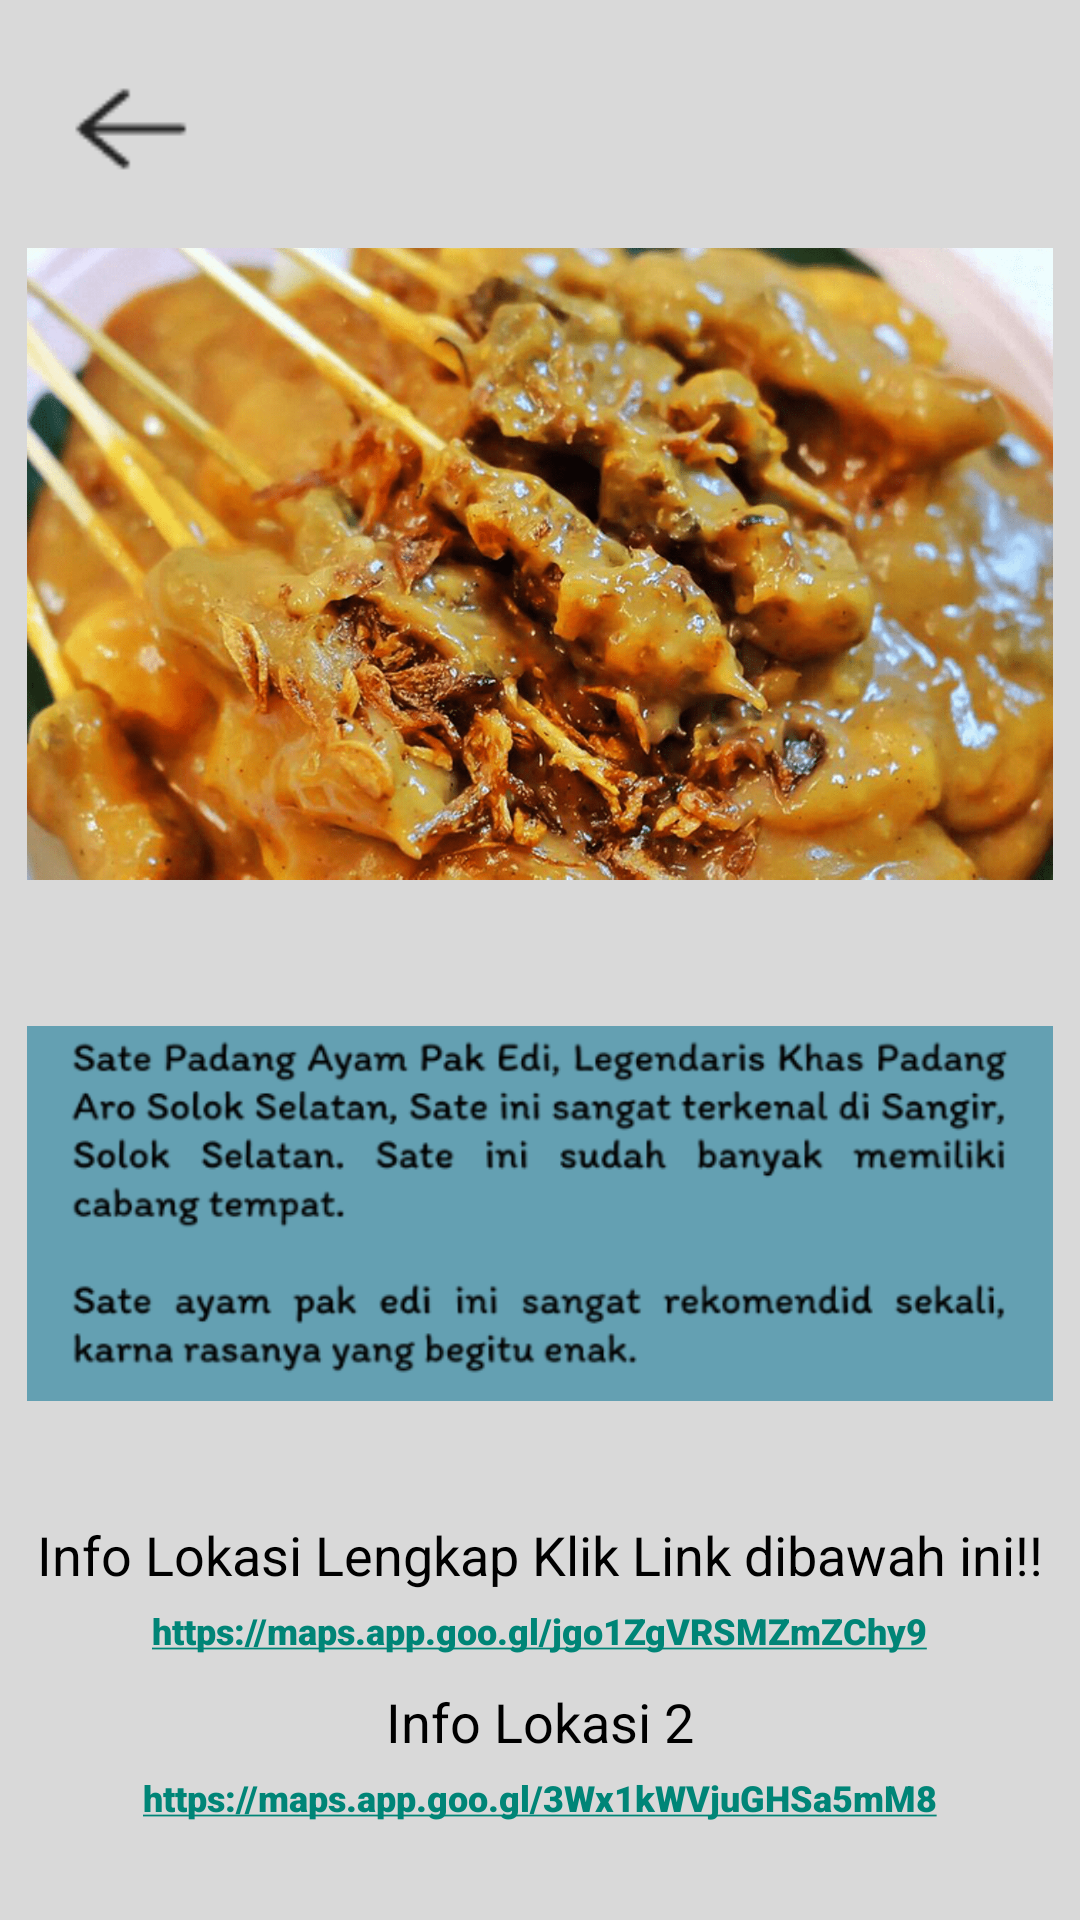

Icon bounding boxes for this 1080 × 1920 phone screenshot, format (x1, y1, x2, y2):
back: (75, 88, 187, 170)
